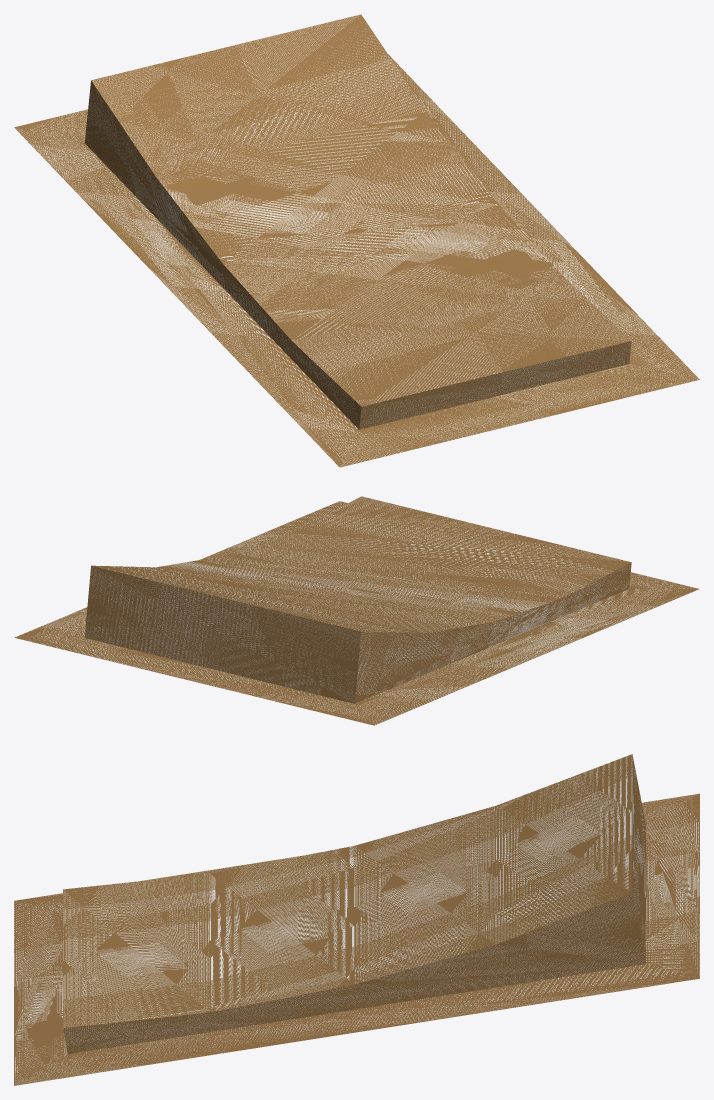
Rendered from original-3.obj.
3 views of the same model, one above another, from view 1: azimuth 30°, elevation 25°; view 2: azimuth 150°, elevation 25°; view 3: azimuth 270°, elevation 25° (orthographic). The views are drawn at different scales.
Parts seen in each view (by area): view 1: Group3/mesh1/mesh1-geometry#mesh1-geometry; view 2: Group3/mesh1/mesh1-geometry#mesh1-geometry; view 3: Group3/mesh1/mesh1-geometry#mesh1-geometry.
Part boxes in pixels (x1=…): Group3/mesh1/mesh1-geometry#mesh1-geometry: x1=14, y1=14, x2=699, y2=467; Group3/mesh1/mesh1-geometry#mesh1-geometry: x1=14, y1=496, x2=699, y2=725; Group3/mesh1/mesh1-geometry#mesh1-geometry: x1=14, y1=754, x2=699, y2=1085.
Bounding box in the file's own units: 0.0444 × 0.019 × 0.0696.
